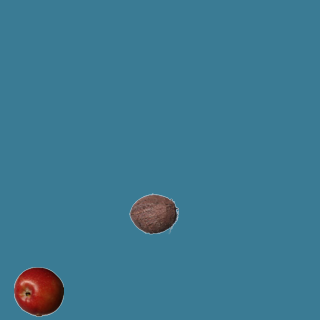Apple Braeburn: (13, 266, 63, 316)
Cocos: (128, 188, 178, 238)
